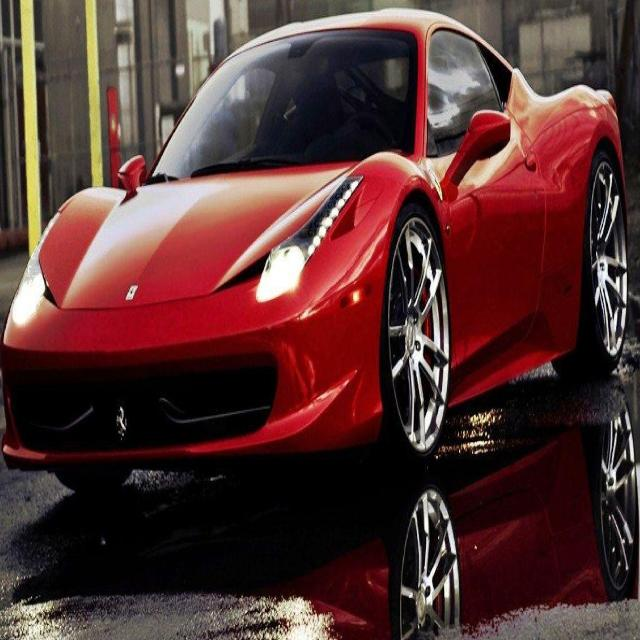red: (3, 0, 640, 482)
